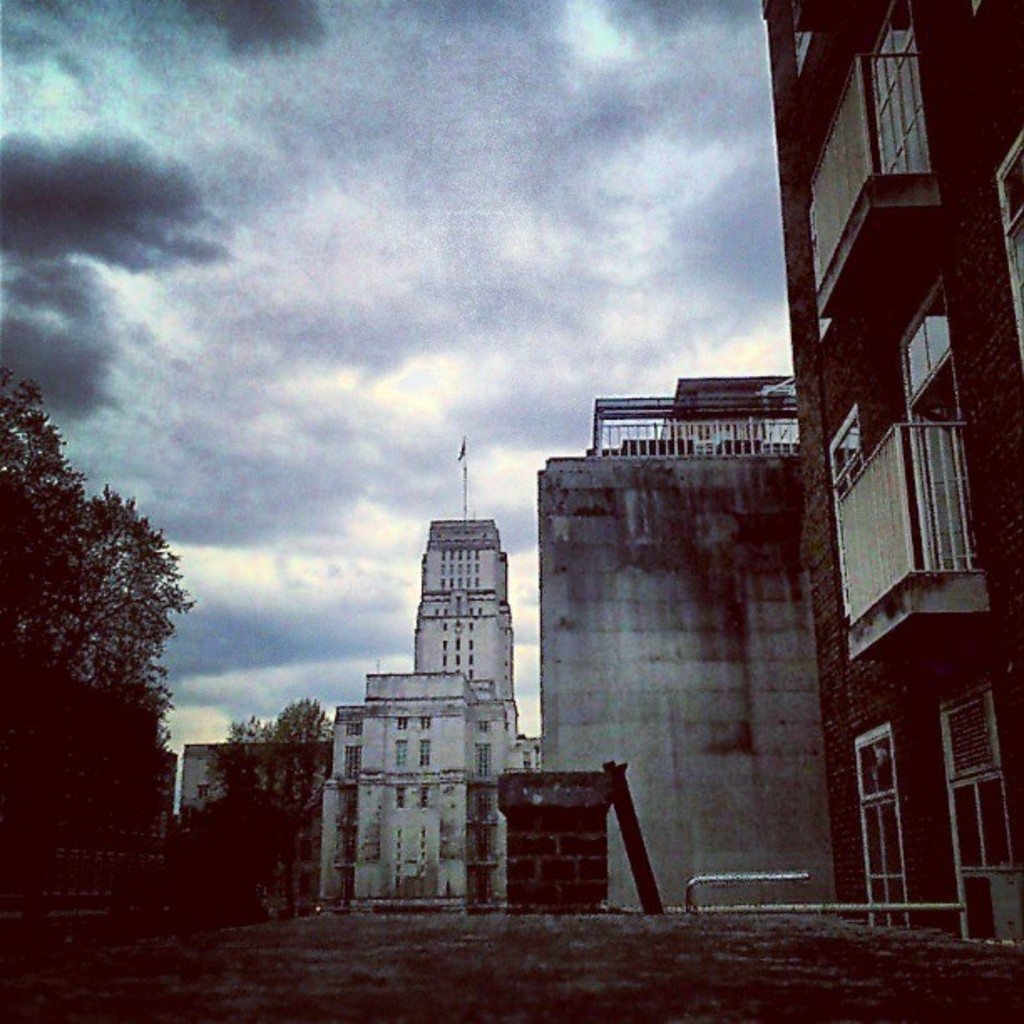Tree: (20, 393, 197, 853), (172, 692, 346, 926)
